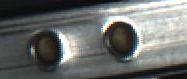joints: (99, 17, 143, 59), (27, 27, 68, 72)
